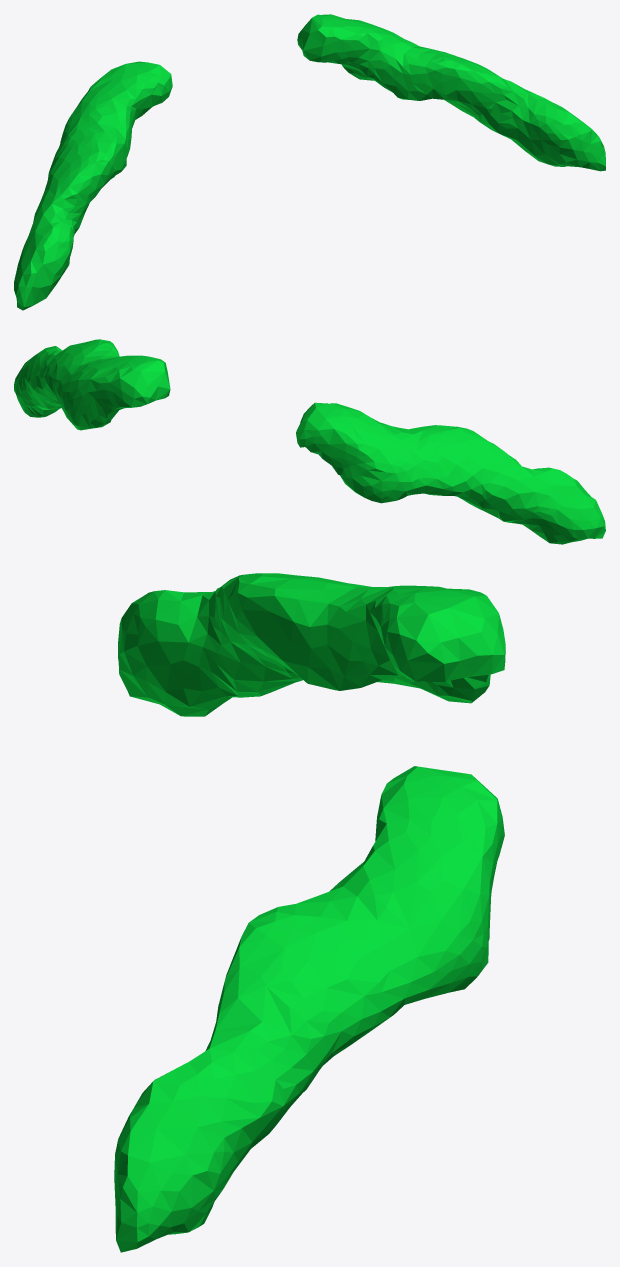
File: 16-PE-parietal area PE-('0.0000', '1.0000', '0.2667').obj
The picture shows the model from 3 angles, top to bottom: view 1: azimuth 30°, elevation 25°; view 2: azimuth 150°, elevation 25°; view 3: azimuth 270°, elevation 25°; orthographic projection. The views are drawn at different scales.
Size of the model in its own units: 263 by 60.93 by 75.49.
